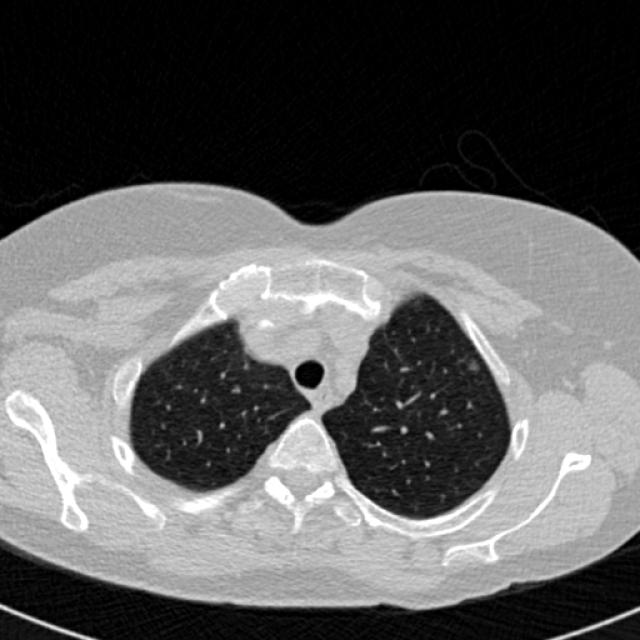nodule: (458, 351, 488, 381)
